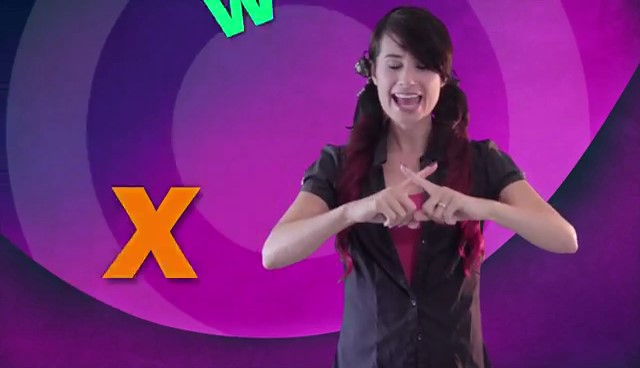X: (346, 154, 486, 241)
